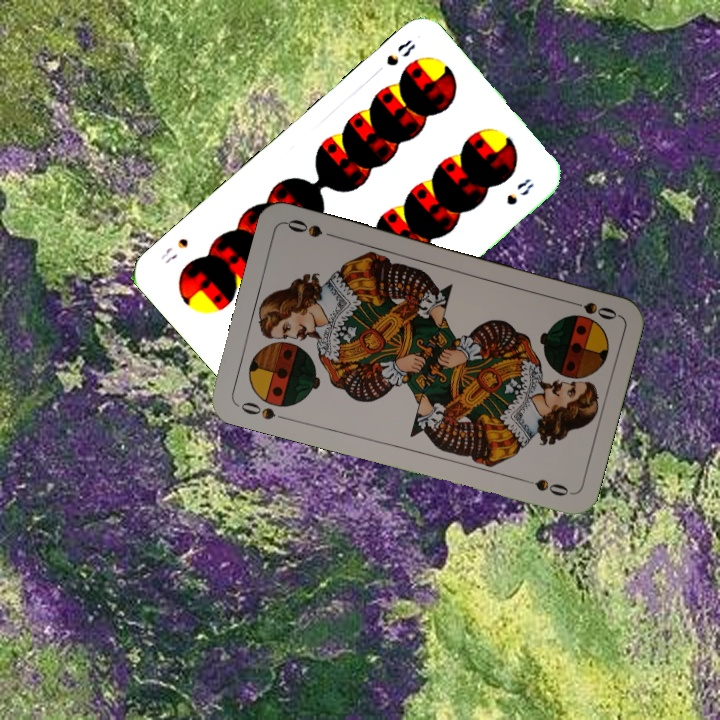S8: (382, 35, 419, 69)
SO: (562, 295, 620, 323), (234, 398, 292, 424)
